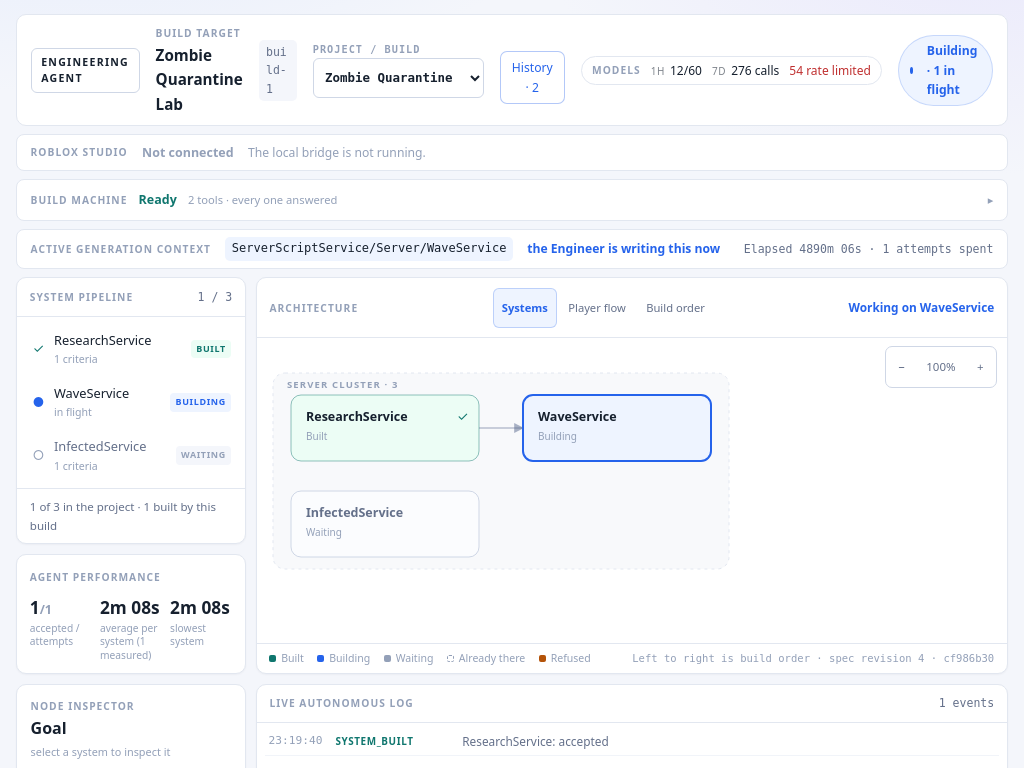
Test: the planning views › shows what the player does, in order, when asked
Check: the element with test id "architecture-map" is shown, box [257,338,1007,673]
Click the tab "Player flow". click: (597, 308)
box: [559,288,635,328]
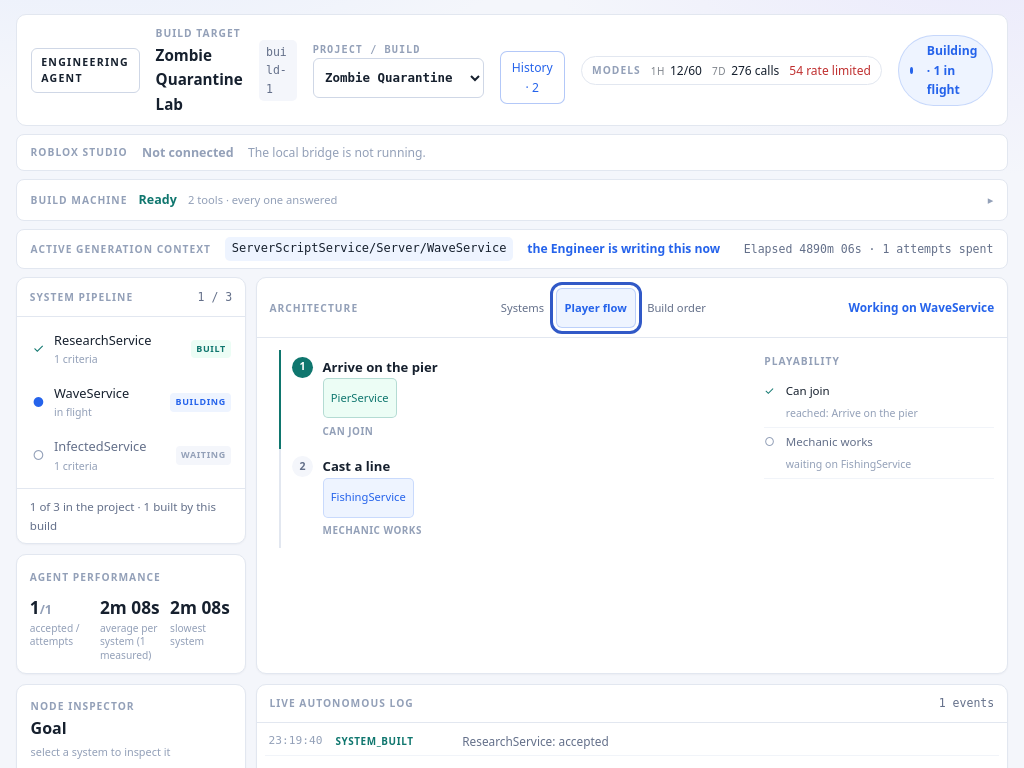
Check: the text "Arrive on the pier" is shown, box [323,358,438,376]
Check: the text "Cast a line" is shown, box [323,457,390,475]
Check: the element with test id "architecture-map" is gone
